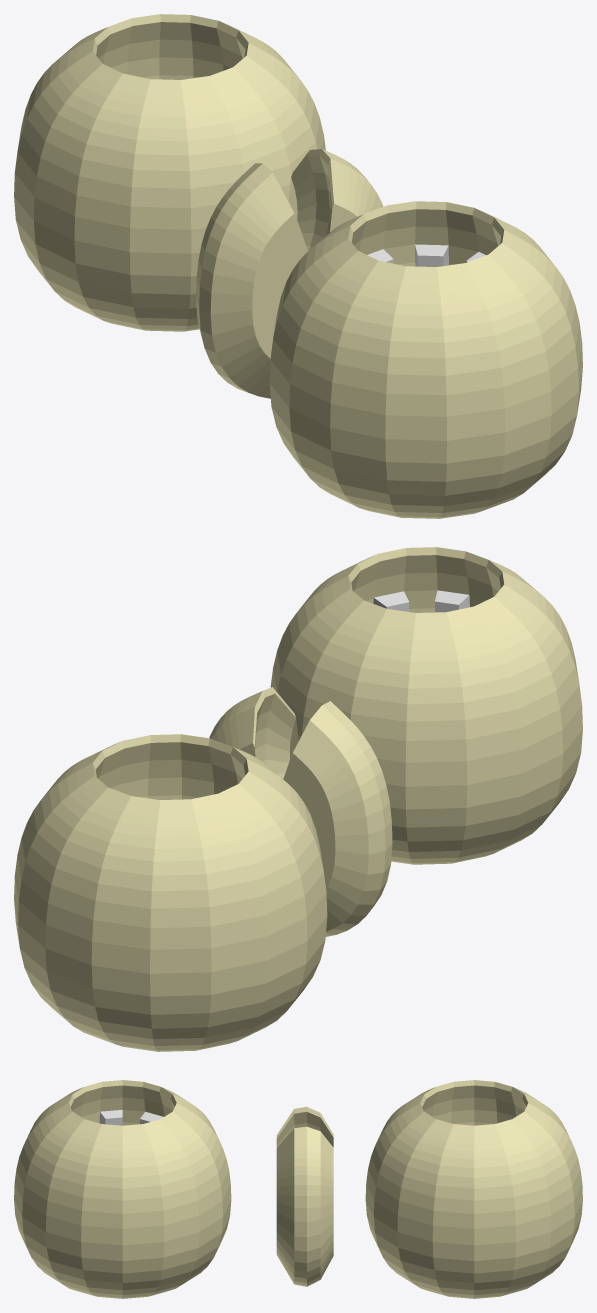
Rendered from Cell MOUTHS aduyhgsfgfgfgfgfgsdfgyudfs.fbx.
3 views of the same model, one above another, from view 1: azimuth 30°, elevation 25°; view 2: azimuth 150°, elevation 25°; view 3: azimuth 270°, elevation 25° (orthographic). The views are drawn at different scales.
Visible parts, largest first — view 1: OmnM, HerbM, CMth; view 2: HerbM, OmnM, CMth; view 3: HerbM, OmnM, CMth.
Part boxes in pixels (x1,y1,x2,y2): OmnM: (269, 201, 582, 518); HerbM: (14, 14, 325, 331); CMth: (196, 149, 383, 398); HerbM: (14, 734, 327, 1051); OmnM: (270, 547, 582, 864); CMth: (209, 687, 392, 936); HerbM: (365, 1080, 582, 1298); OmnM: (14, 1080, 231, 1298); CMth: (276, 1106, 333, 1286).
Size of the model in its own units: 514 by 460 by 1346.
